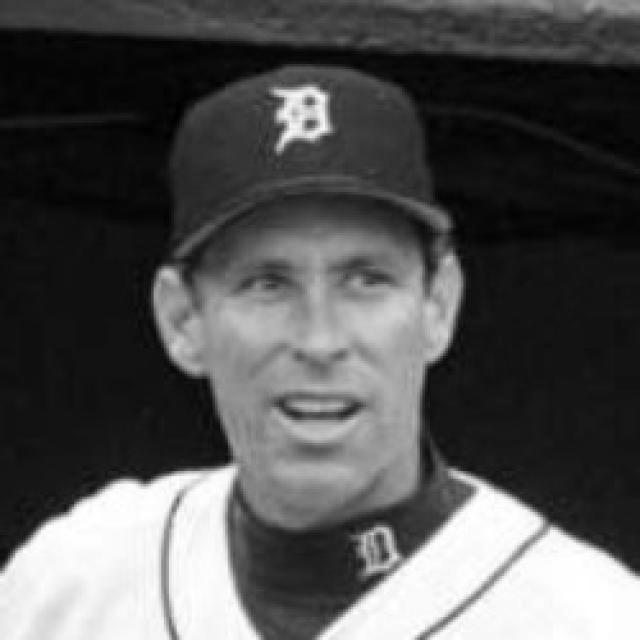real: (196, 191, 430, 517), (230, 248, 402, 311)
